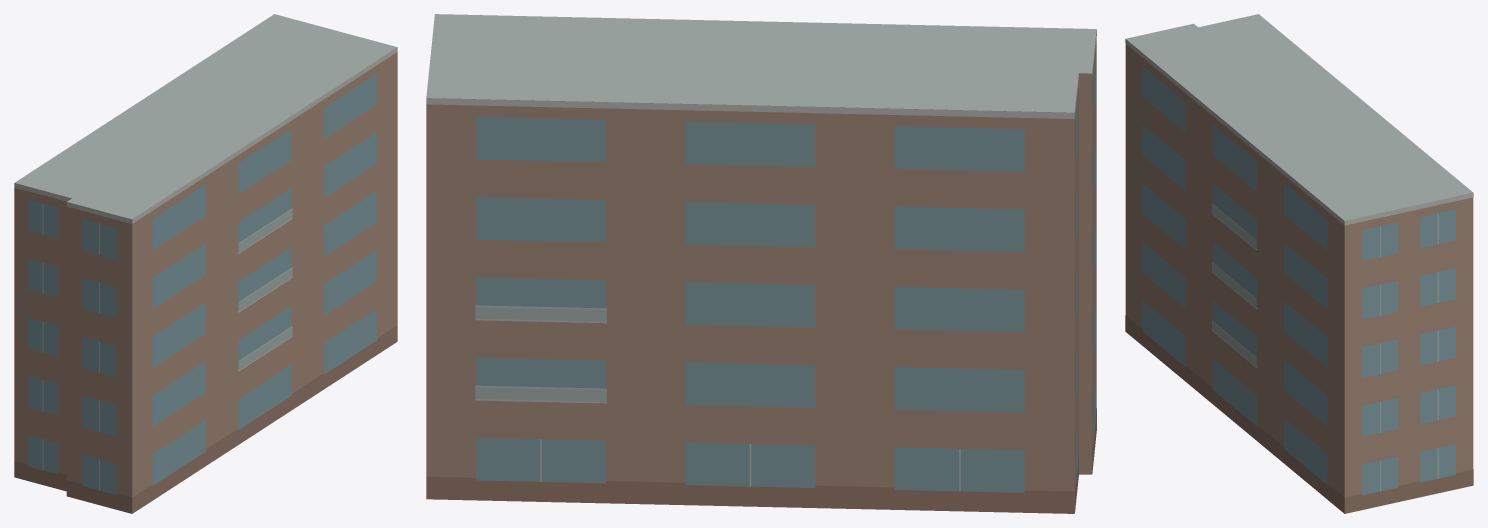
The model's file is survey-upis-32590039.glb.
The picture shows the model from 3 angles, left to right: view 1: azimuth 30°, elevation 25°; view 2: azimuth 150°, elevation 25°; view 3: azimuth 270°, elevation 25°; orthographic projection. The views are drawn at different scales.
Parts seen in each view (by area): view 1: survey-upis-32590039.tmp; view 2: survey-upis-32590039.tmp; view 3: survey-upis-32590039.tmp.
Boxes of the visible parts, left/top/right/bottom form: survey-upis-32590039.tmp: left=14, top=14, right=397, bottom=513; survey-upis-32590039.tmp: left=426, top=14, right=1096, bottom=513; survey-upis-32590039.tmp: left=1125, top=14, right=1473, bottom=513.
Bounding box in the file's own units: 23.12 × 15.25 × 16.43.
